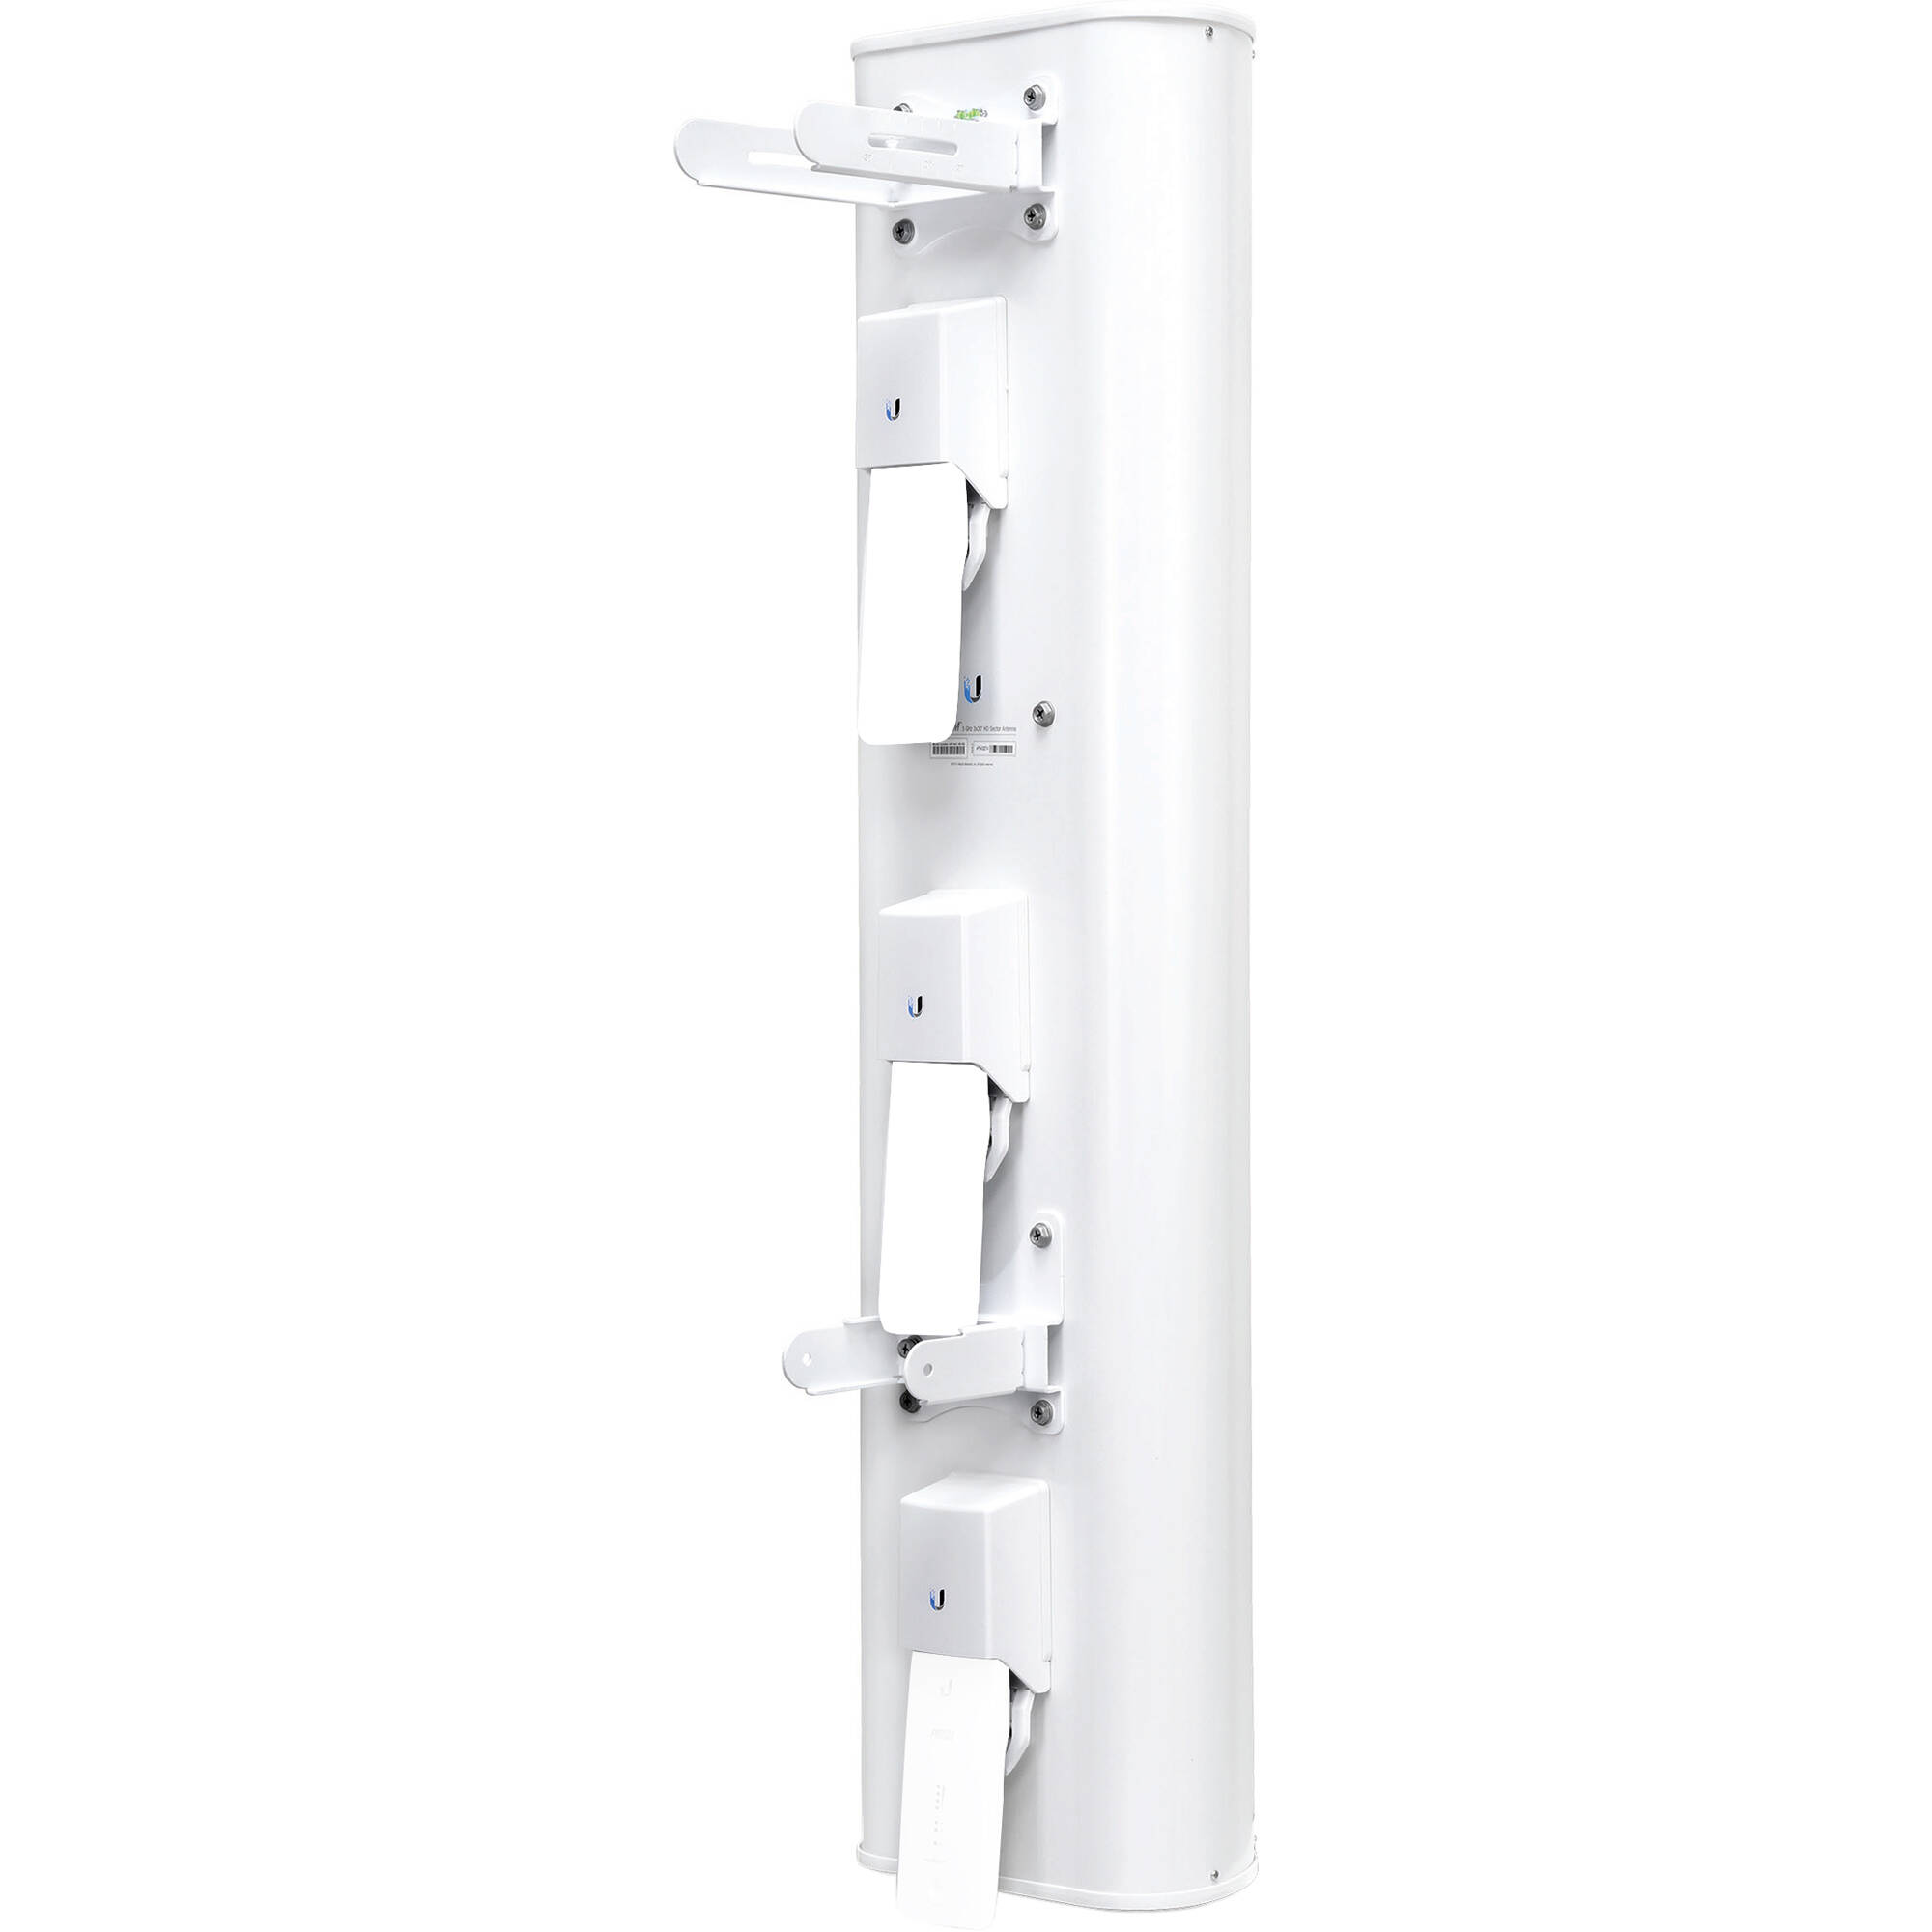sa: (679, 41, 1302, 1907)
